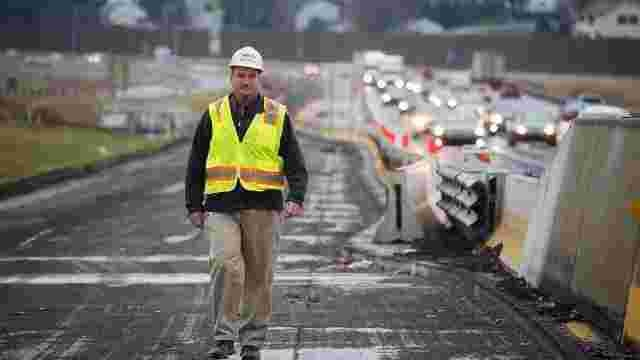white: (223, 47, 267, 98)
